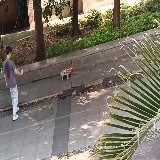fire: (67, 65, 74, 73)
